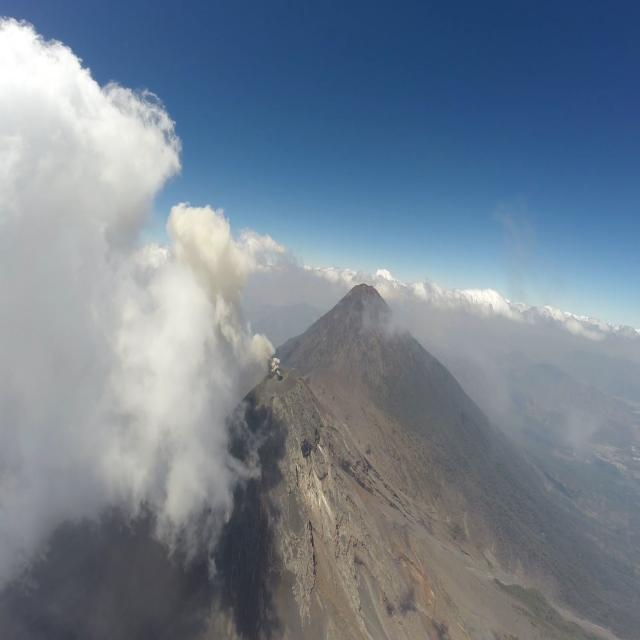Plume: (168, 198, 274, 360)
Summit: (211, 362, 390, 604)
